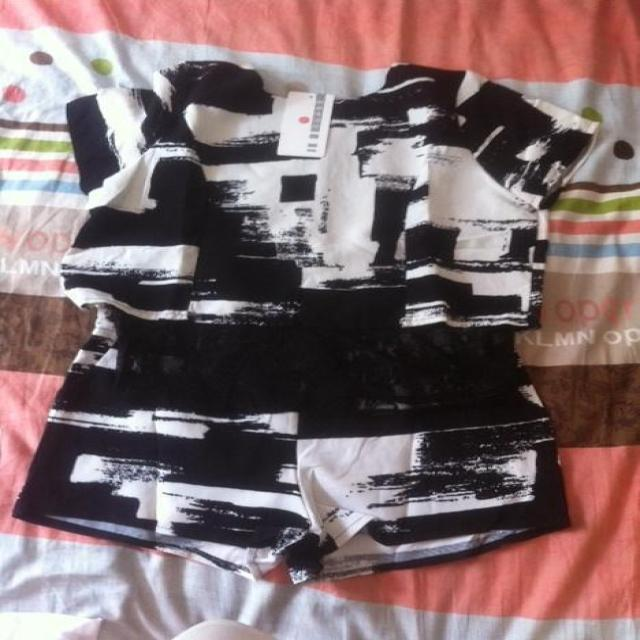short-sleeve-dress: (45, 85, 608, 599)
